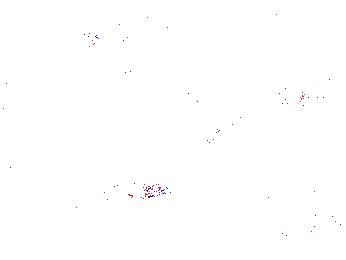glassfish: (201, 90, 311, 160), (103, 176, 171, 202)
red belly glassfish: (332, 60, 346, 75)
redtail glassfish: (81, 16, 171, 51), (119, 67, 198, 98)
